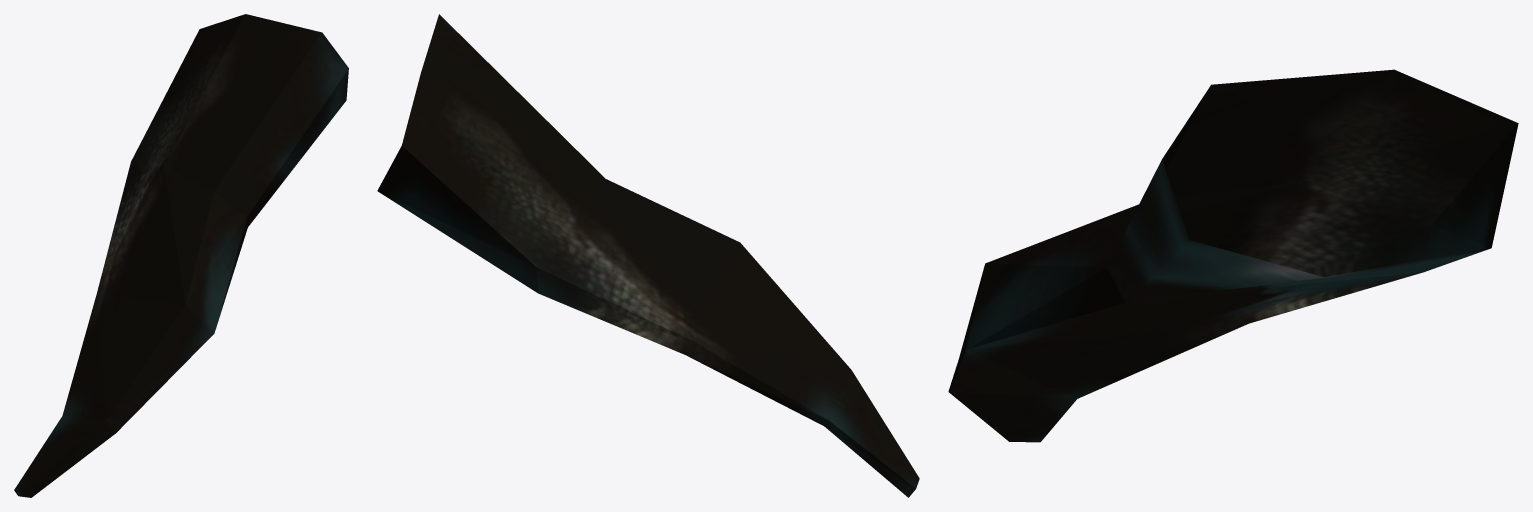
File: Ala_izq.obj
The picture shows the model from 3 angles, left to right: view 1: azimuth 30°, elevation 25°; view 2: azimuth 150°, elevation 25°; view 3: azimuth 270°, elevation 25°; orthographic projection. The views are drawn at different scales.
Parts seen in each view (by area): view 1: pasted__polySurface1 group1; view 2: pasted__polySurface1 group1; view 3: pasted__polySurface1 group1.
Part boxes in pixels (bbox=[...]): pasted__polySurface1 group1: bbox=[14, 14, 348, 497]; pasted__polySurface1 group1: bbox=[377, 14, 919, 497]; pasted__polySurface1 group1: bbox=[948, 69, 1518, 442].
Bounding box in the file's own units: 0.5477 × 0.4913 × 0.3648.
Materials: 1 (1 with a texture image).
